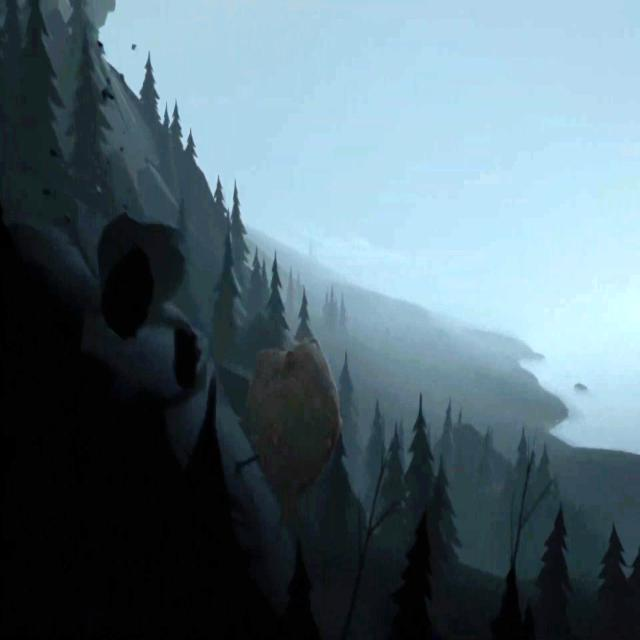blob: (245, 345, 348, 480)
